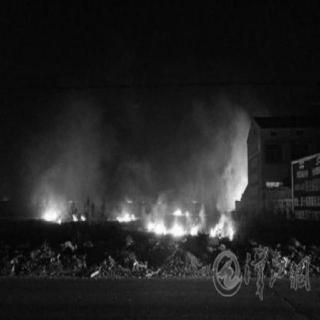Fire: (35, 187, 88, 224)
